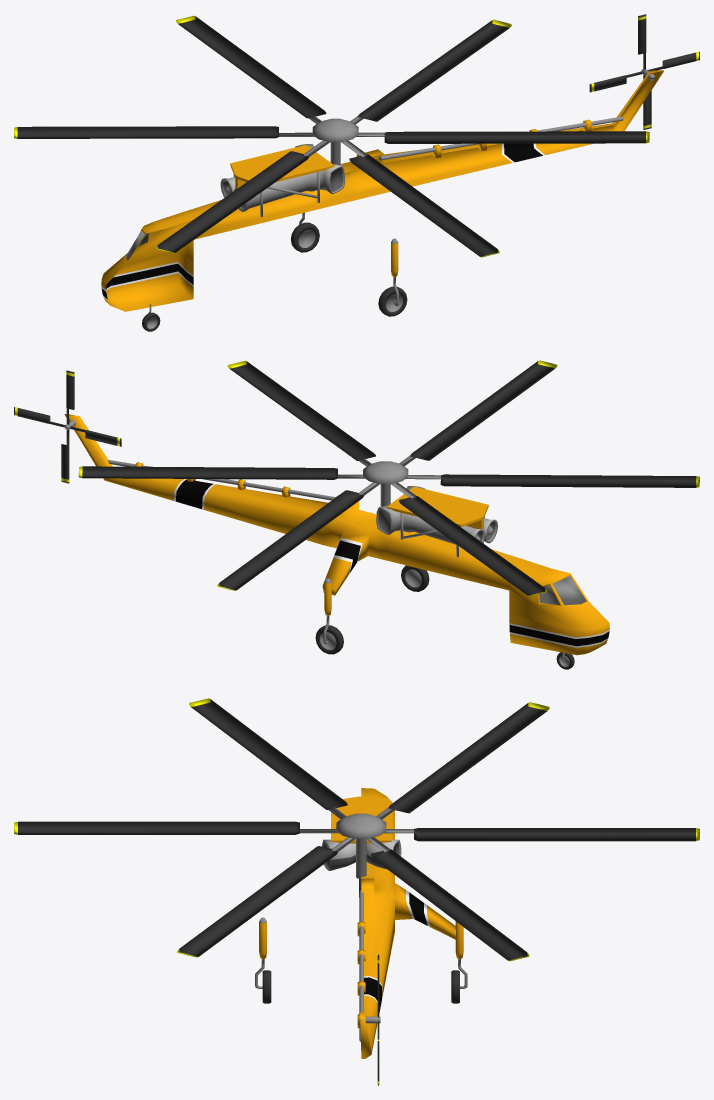
The model's file is sky crane.glb.
The picture shows the model from 3 angles, top to bottom: view 1: azimuth 30°, elevation 25°; view 2: azimuth 150°, elevation 25°; view 3: azimuth 270°, elevation 25°; orthographic projection. The views are drawn at different scales.
Visible parts, largest first — view 1: sky crane chassis, main rotor, tail rotor; view 2: sky crane chassis, main rotor, tail rotor; view 3: main rotor, sky crane chassis.
Part boxes in pixels (x1,y1,x2,y2): sky crane chassis: (101, 70, 663, 331); main rotor: (14, 15, 649, 257); tail rotor: (589, 14, 699, 129); sky crane chassis: (64, 414, 609, 669); main rotor: (78, 360, 699, 596); tail rotor: (14, 370, 121, 483); main rotor: (14, 698, 699, 961); sky crane chassis: (255, 788, 467, 1058).
Size of the model in its own units: 7.64 by 2.22 by 6.76.
Materials: 1 (1 with a texture image).
